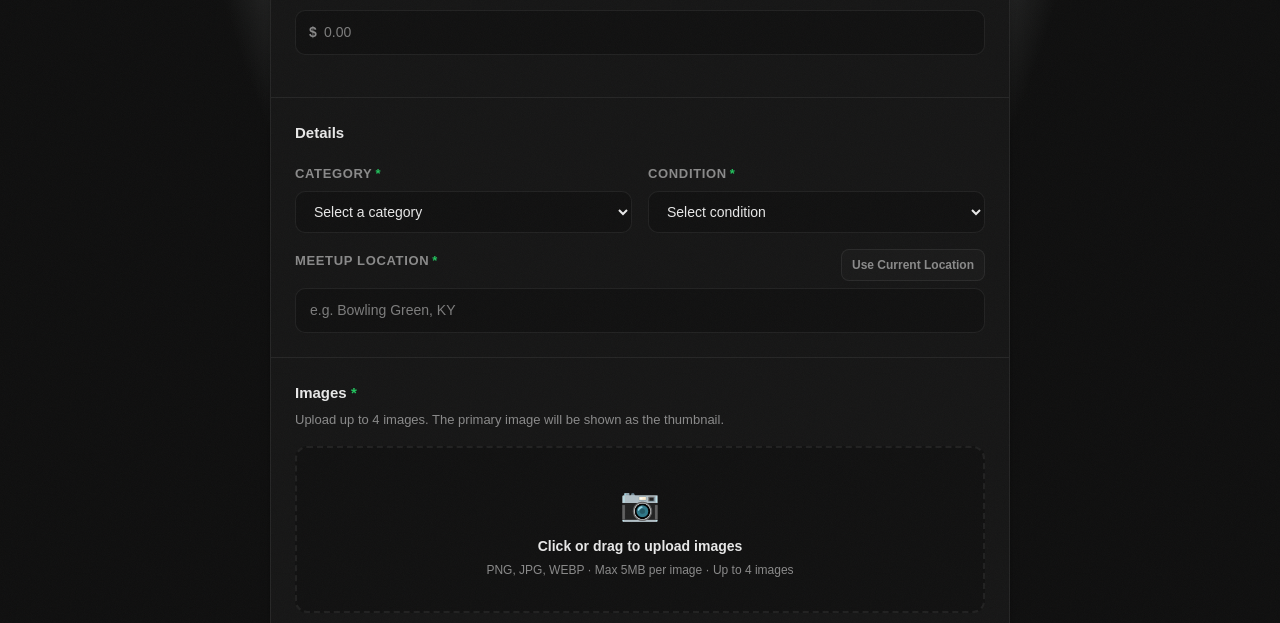
Test: CreateEditListingPage › fills meetup location when current location is used
This screenshot has width=1280, height=623.
(page scrolled)
Click the button "Use Current Location".
click(913, 265)  # box [841,249,985,281]
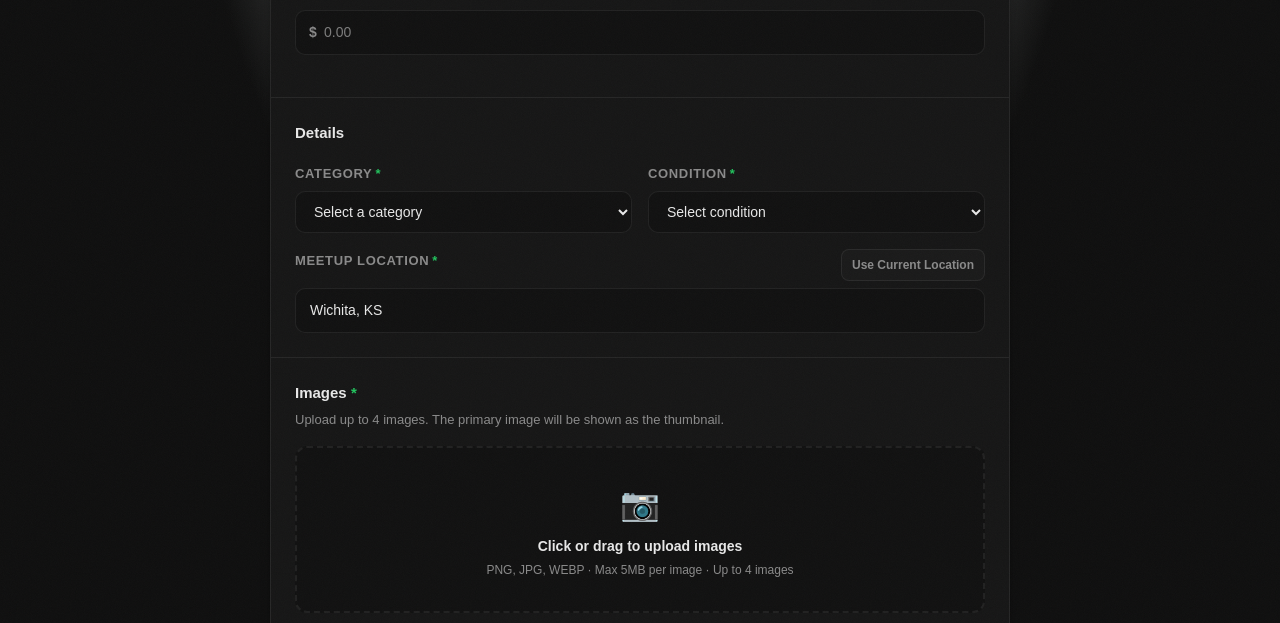
expect the field with placeholder "e.g. Bowling Green, KY" holds "Wichita, KS": met, box [295,288,985,333]
